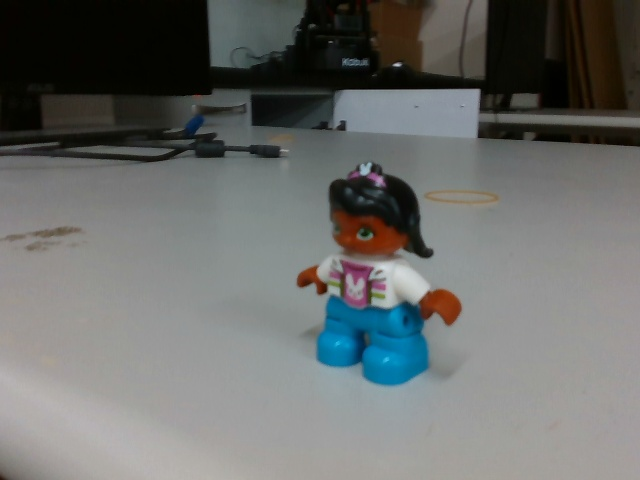people: (294, 160, 463, 387)
